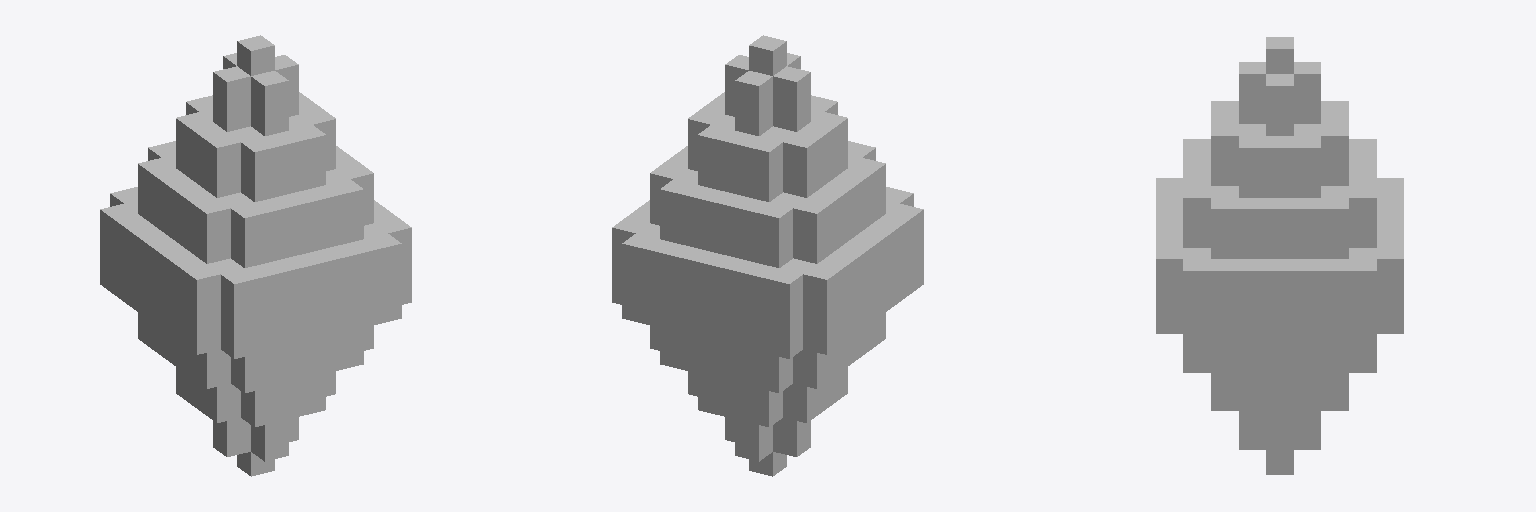
The model's file is Package 01 Necro Dungeon-29.obj.
The picture shows the model from 3 angles: view 1: azimuth 30°, elevation 25°; view 2: azimuth 150°, elevation 25°; view 3: azimuth 270°, elevation 25°; orthographic projection.
Visible parts, largest first — view 1: object 1; view 2: object 1; view 3: object 1.
Boxes of the visible parts, x1=… form: object 1: x1=100, y1=35, x2=411, y2=476; object 1: x1=612, y1=35, x2=923, y2=476; object 1: x1=1156, y1=37, x2=1403, y2=474.
Bounding box in the file's own units: 0.9 × 1.7 × 0.9.